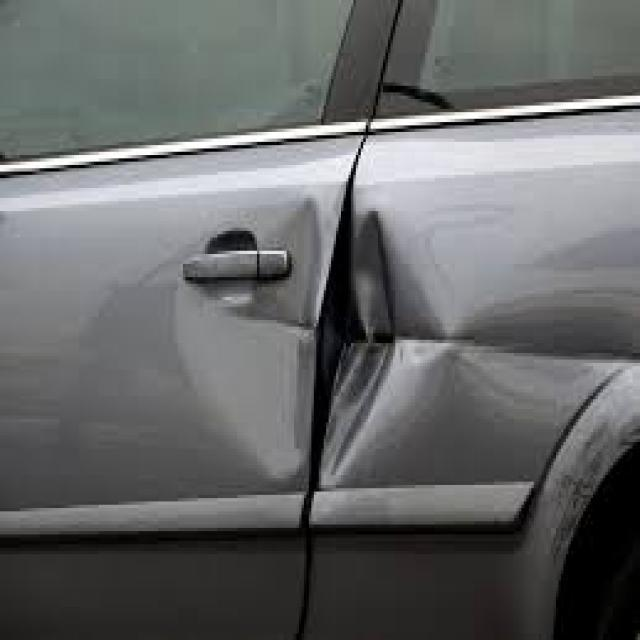damaged-door: (324, 0, 640, 640)
